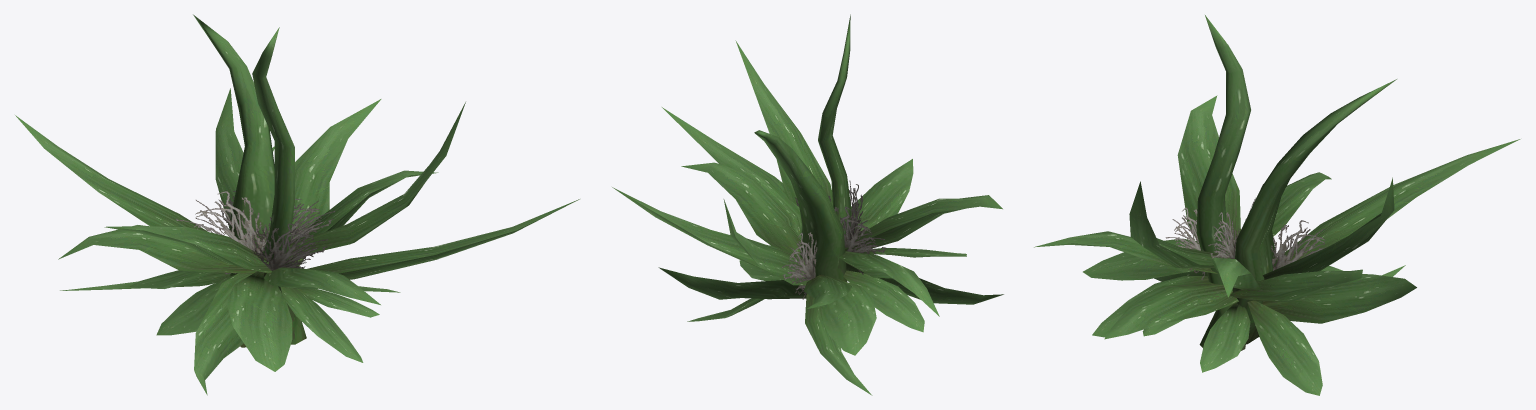
The model's file is aloe.fbx.
3 views of the same model, side by side, from view 1: azimuth 30°, elevation 25°; view 2: azimuth 150°, elevation 25°; view 3: azimuth 270°, elevation 25° (orthographic). The views are drawn at different scales.
Visible parts, largest first — view 1: node_id38; view 2: node_id38; view 3: node_id38.
Boxes of the visible parts, x1,y1,x2,y2 form: node_id38: (15, 14, 579, 395); node_id38: (612, 14, 1003, 395); node_id38: (1034, 15, 1520, 395).
Size of the model in its own units: 0.512 by 0.3713 by 0.5037.
1 material, 1 textured.
